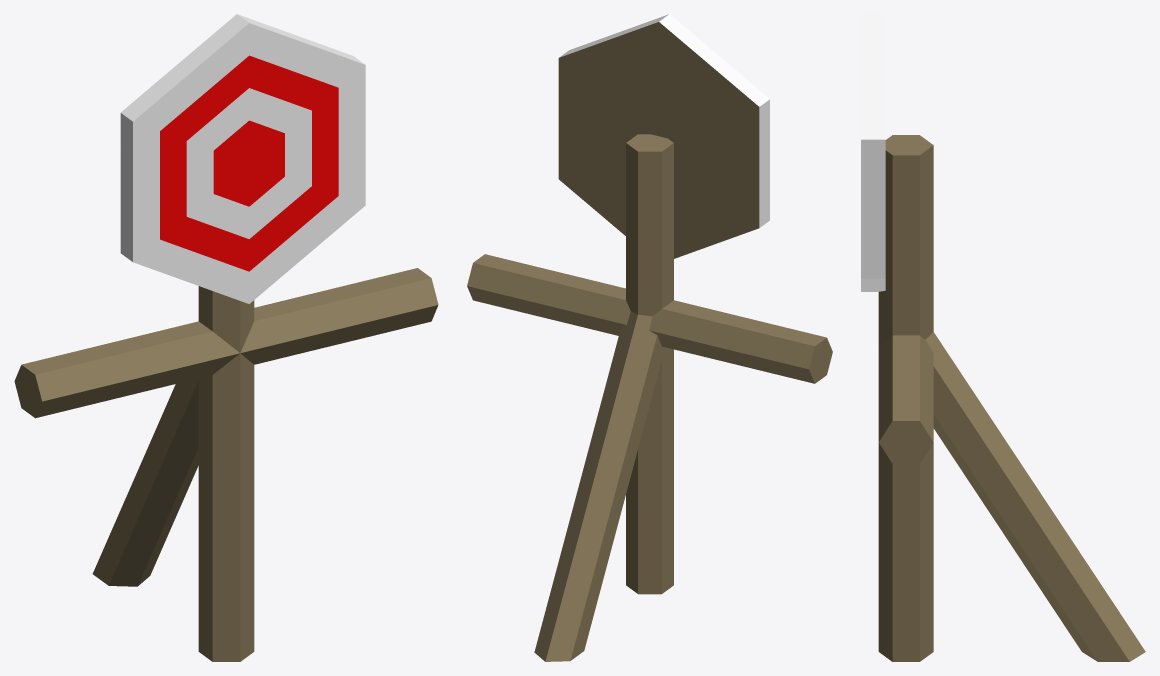
The model's file is TargetV2.fbx.
3 renders of one model, left to right at view 1: azimuth 30°, elevation 25°; view 2: azimuth 150°, elevation 25°; view 3: azimuth 270°, elevation 25°, orthographic. The views are drawn at different scales.
Visible parts, largest first — view 1: Cylinder.004, Cylinder.001, Cylinder.003, Cylinder.002; view 2: Cylinder.004, Cylinder.003, Cylinder.002, Cylinder.001; view 3: Cylinder.003, Cylinder.002, Cylinder.004, Cylinder.001.
Part boxes in pixels (x1,y1,x2,y2): Cylinder.004: (120, 14, 365, 303); Cylinder.001: (14, 268, 438, 418); Cylinder.003: (198, 286, 254, 661); Cylinder.002: (92, 378, 199, 586); Cylinder.004: (558, 14, 769, 258); Cylinder.003: (626, 134, 673, 594); Cylinder.002: (534, 311, 664, 661); Cylinder.001: (467, 254, 832, 383); Cylinder.003: (878, 135, 933, 661); Cylinder.002: (925, 332, 1145, 661); Cylinder.004: (861, 14, 885, 291); Cylinder.001: (878, 335, 933, 463).
Size of the model in its own units: 200 by 311 by 126.
